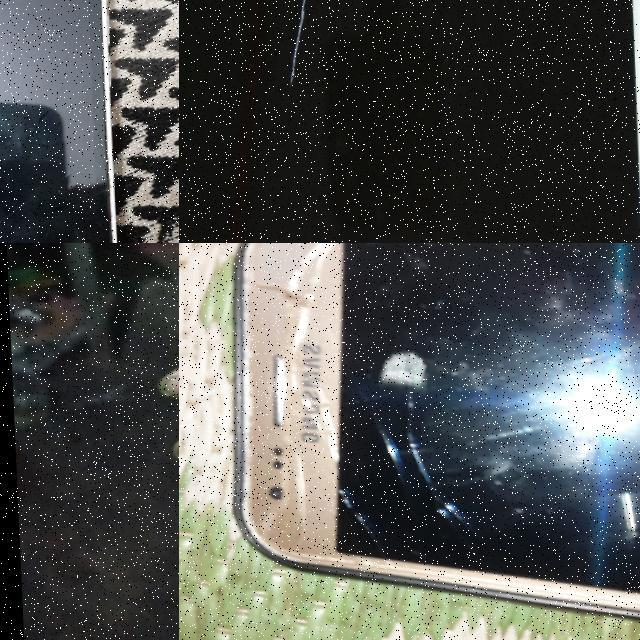scratch: (281, 0, 313, 84)
screen crack: (203, 243, 482, 590)
